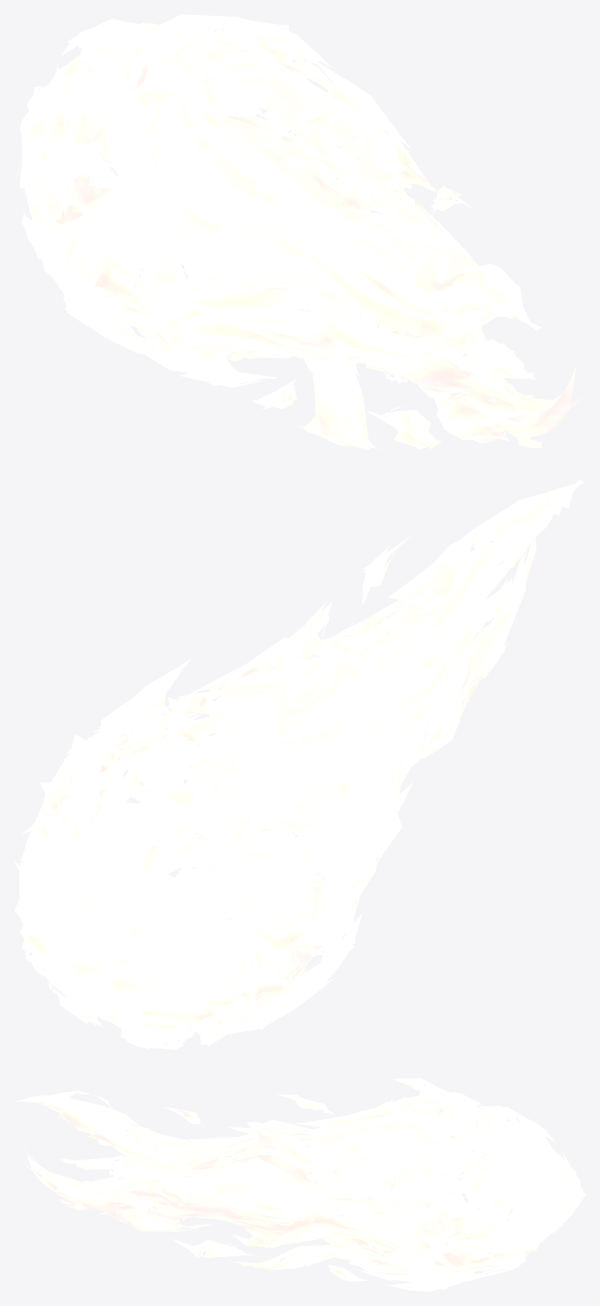
The model's file is dragon-fireball.medium.glb.
The picture shows the model from 3 angles, top to bottom: view 1: azimuth 30°, elevation 25°; view 2: azimuth 150°, elevation 25°; view 3: azimuth 270°, elevation 25°; orthographic projection. The views are drawn at different scales.
Visible parts, largest first — view 1: dragon-fireball_mesh; view 2: dragon-fireball_mesh; view 3: dragon-fireball_mesh.
Boxes of the visible parts, x1,y1,x2,y2 form: dragon-fireball_mesh: (15, 14, 584, 450); dragon-fireball_mesh: (14, 479, 585, 1049); dragon-fireball_mesh: (15, 1078, 585, 1291).
Bounding box in the file's own units: 0.7214 × 0.745 × 1.97.
1 material, 1 textured.
